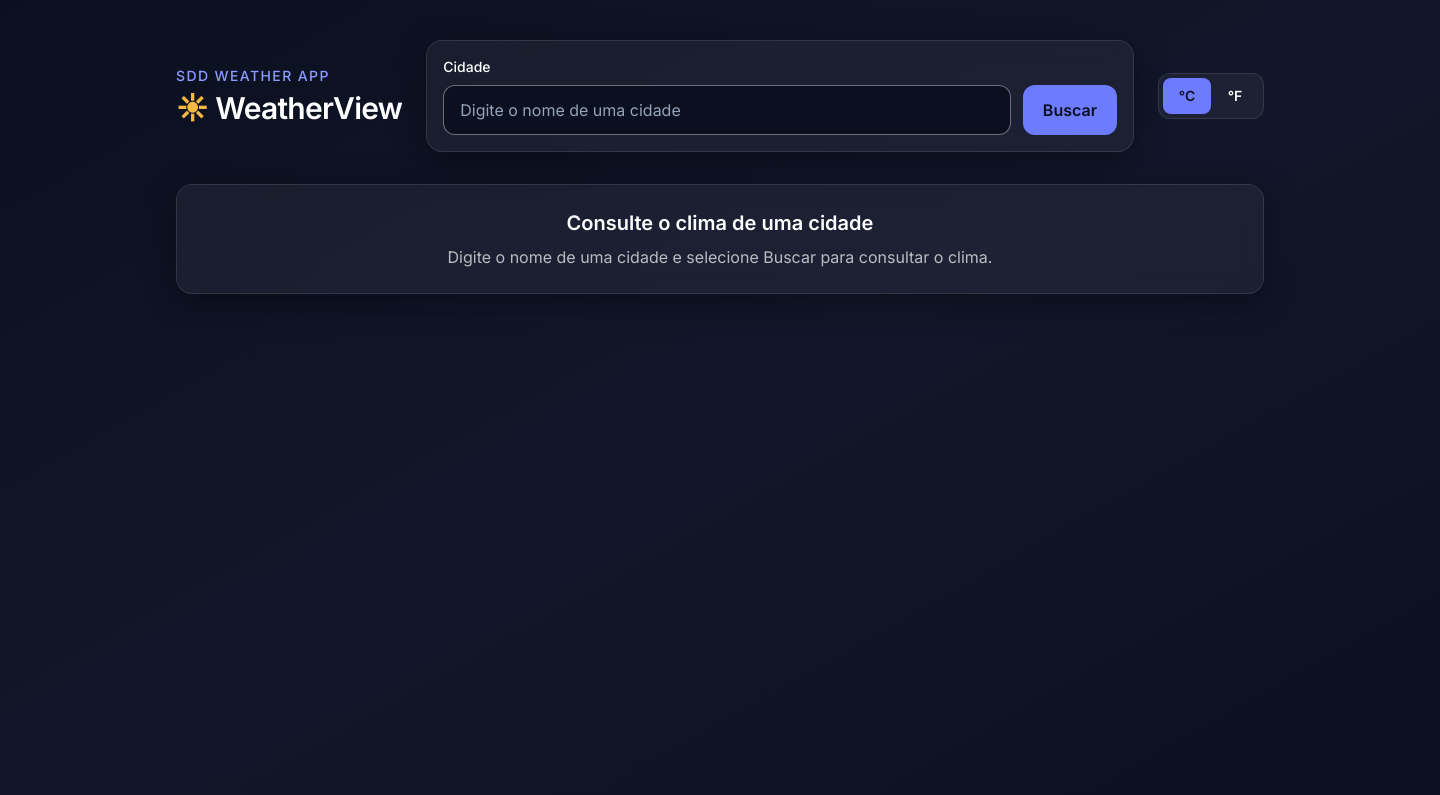
Test: App › bloqueia a busca durante loading, oculta dados anteriores e mantém a unidade disponível
Step 1. Type "São Paulo" into the search field → (727, 110), box [443,85,1011,135]
Then press Enter
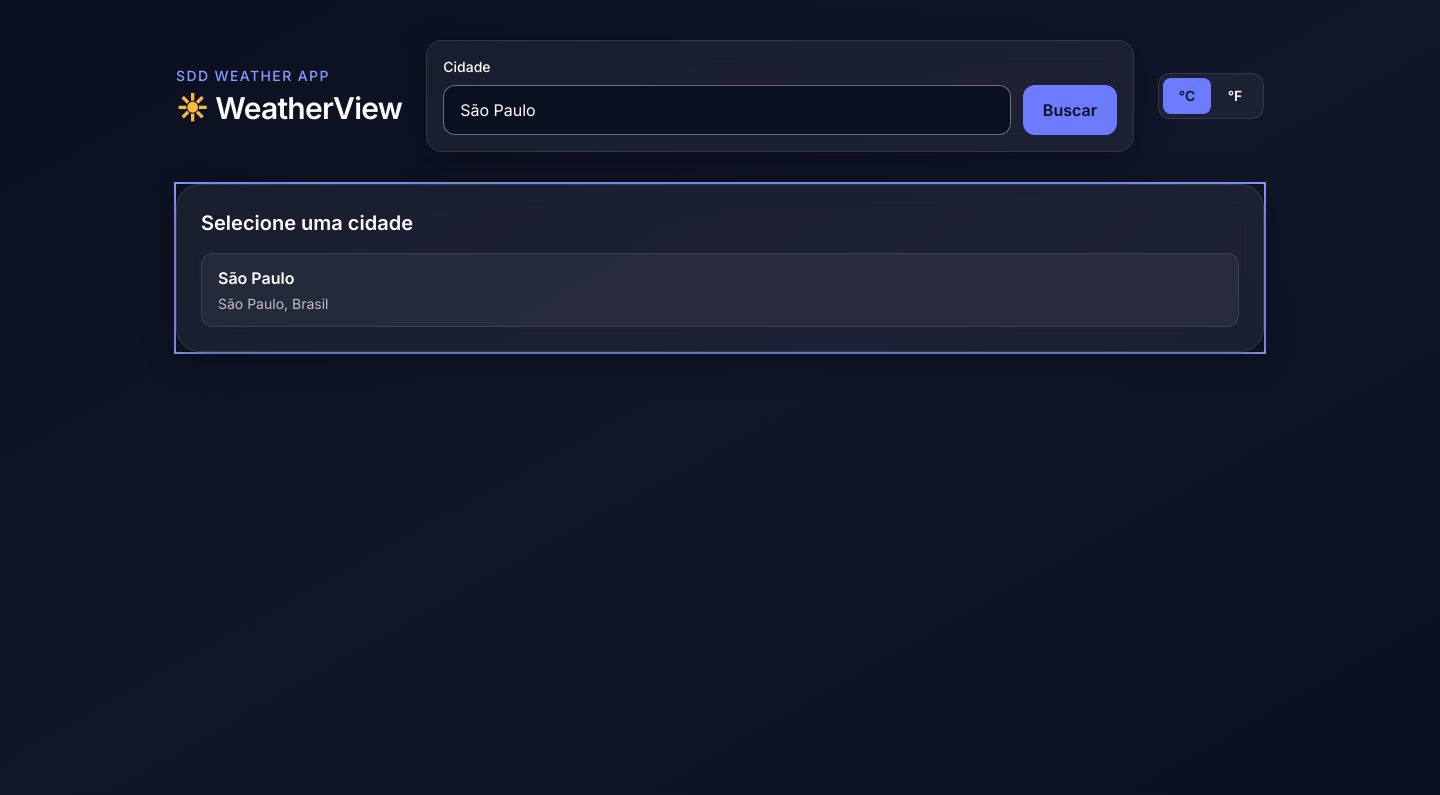
Step 2. Click the button "São Paulo São Paulo, Brasil" → (256, 278), box [201,253,1239,327]
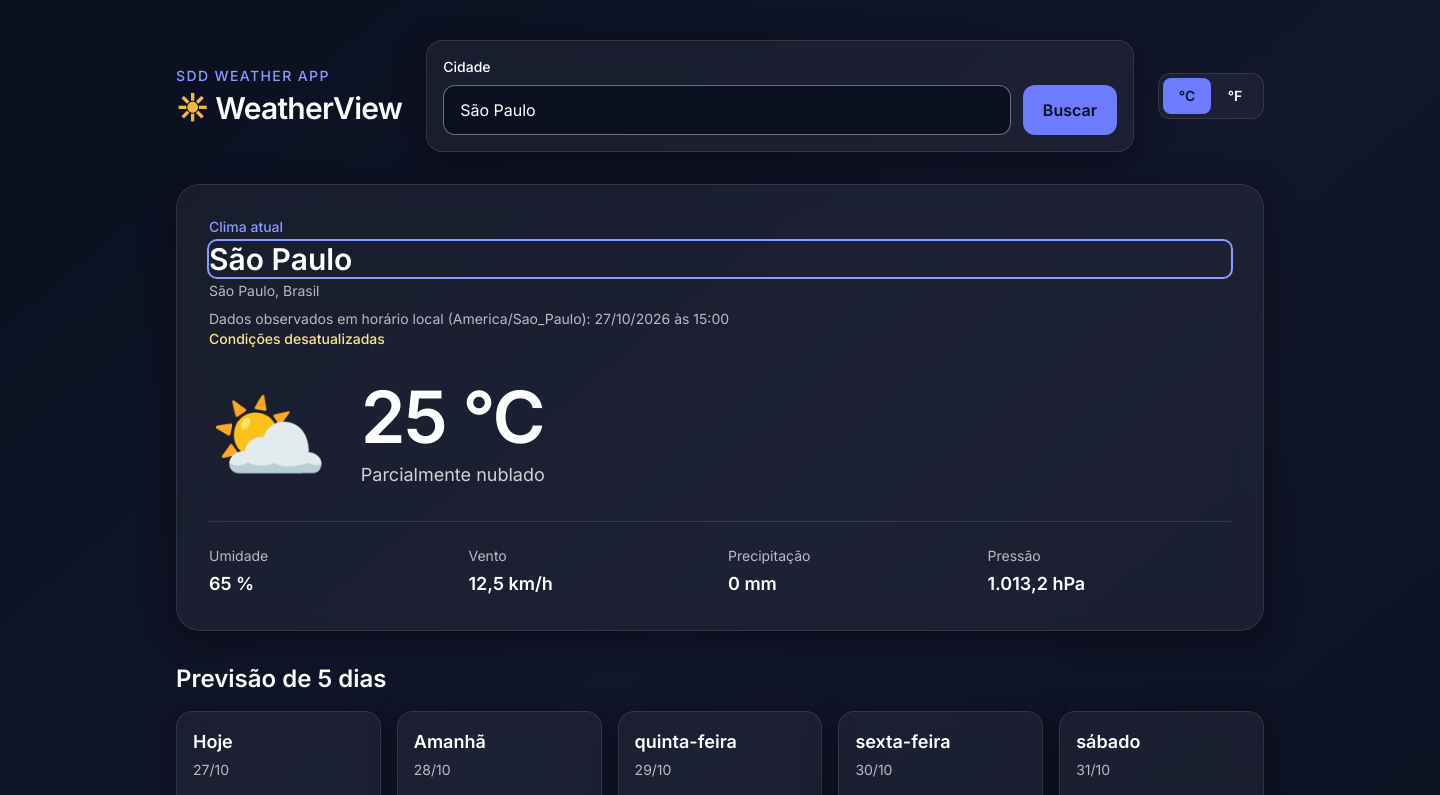
Result: the heading "São Paulo" is shown at [209,241,1231,277]
Step 3. Click the button "Buscar" → (1070, 110), box [1023,85,1117,135]
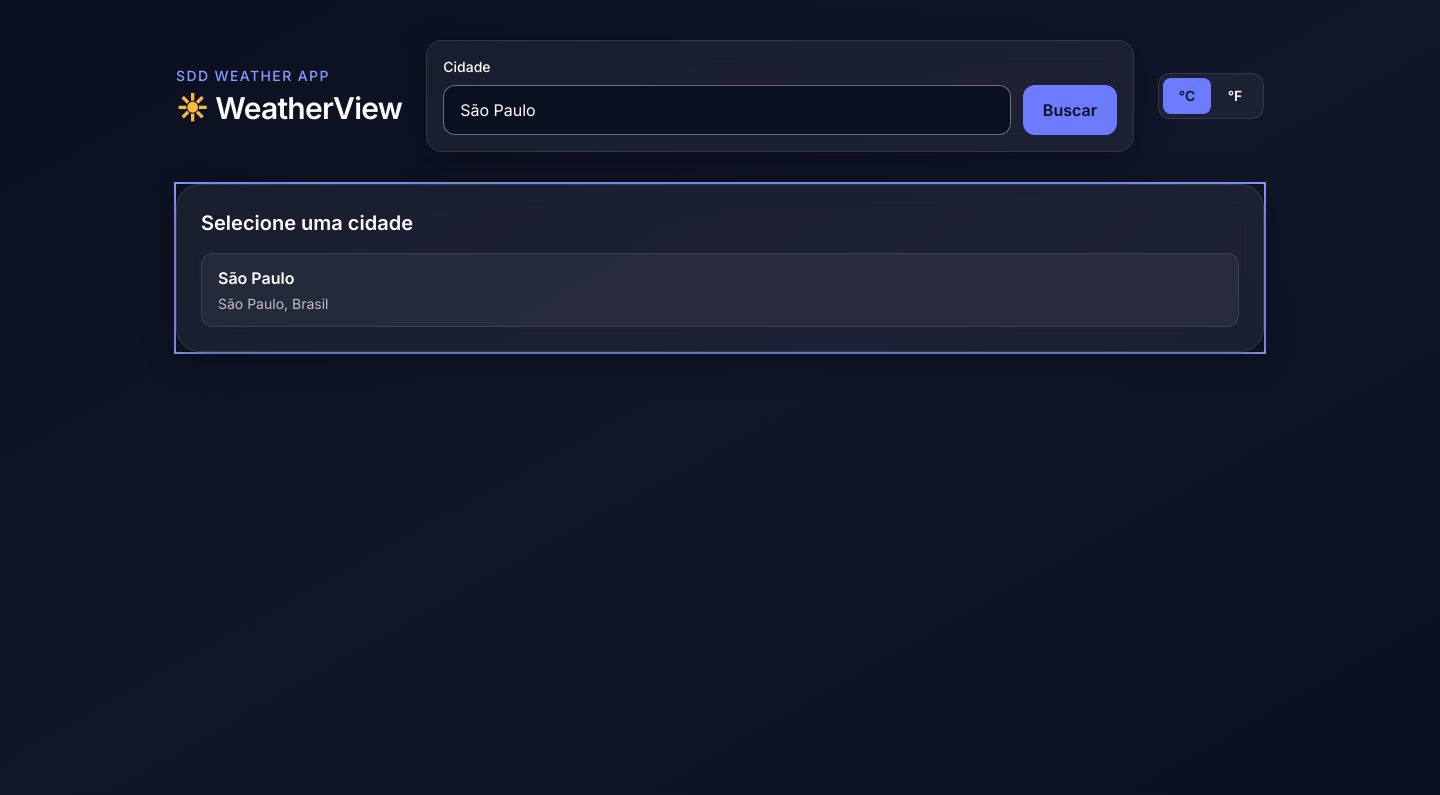
Step 4. Click the button "São Paulo São Paulo, Brasil" → (256, 278), box [201,253,1239,327]
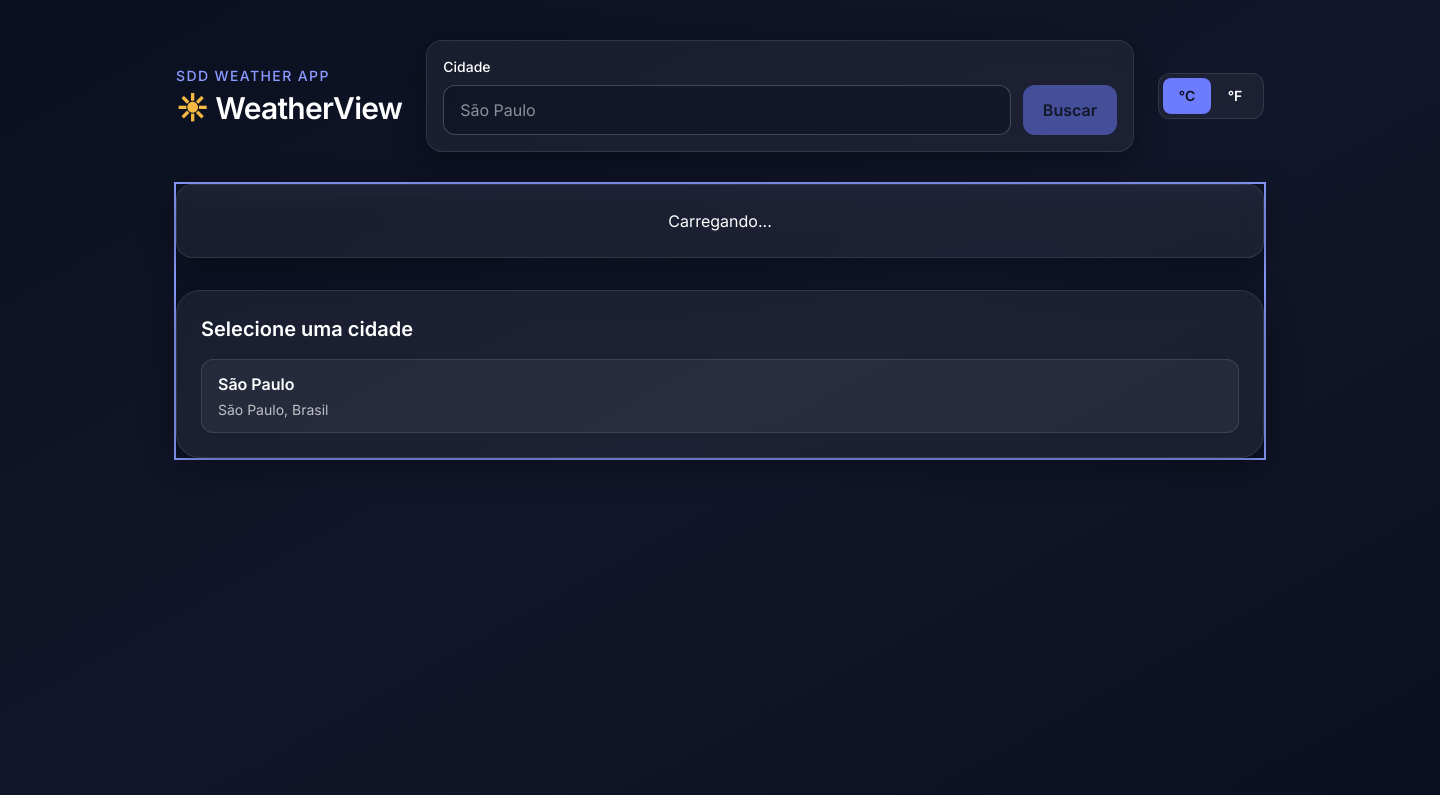
Result: the text "Carregando..." is shown at [668,211,772,231]
Result: the search field is disabled at [443,85,1011,135]
Result: the button "Buscar" is disabled at [1023,85,1117,135]
Step 5. Click the button named "Graus Fahrenheit" → (1235, 96), box [1211,78,1259,114]
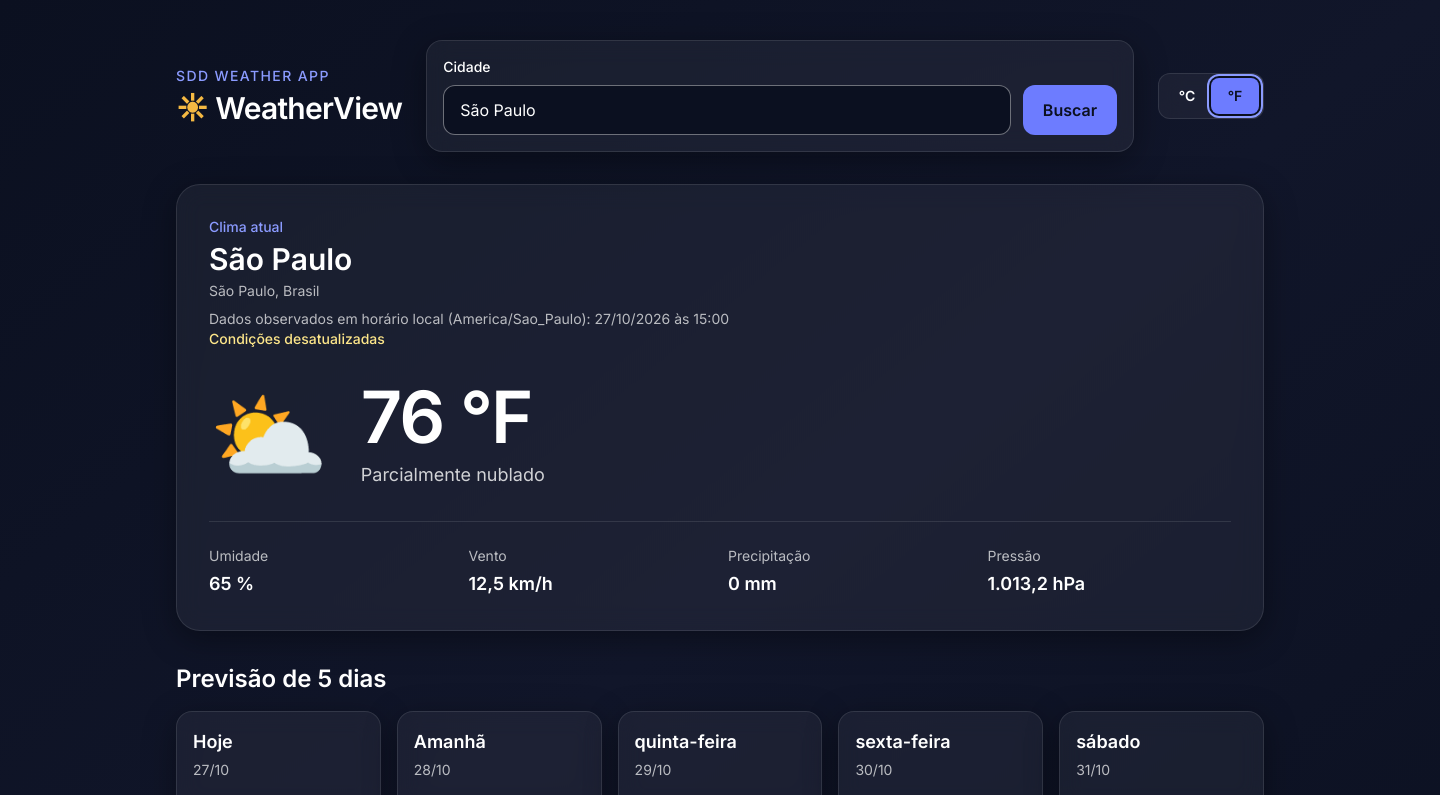
Result: the text named "Temperatura: 76 °F" is shown at [361,381,545,453]
Result: the search field is enabled at [443,85,1011,135]
Result: the button "Buscar" is enabled at [1023,85,1117,135]
